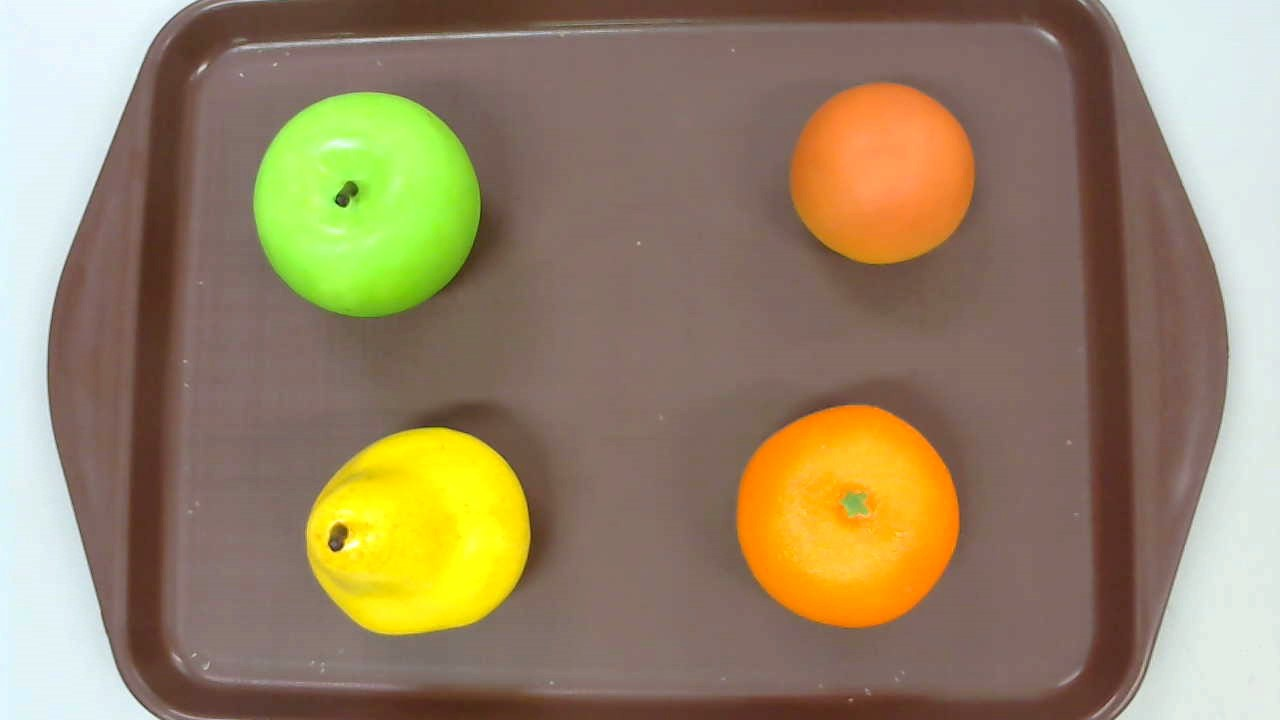bun: (789, 80, 976, 265)
green apple: (253, 91, 480, 317)
orange: (735, 403, 960, 631)
yellow pear: (306, 427, 531, 635)
